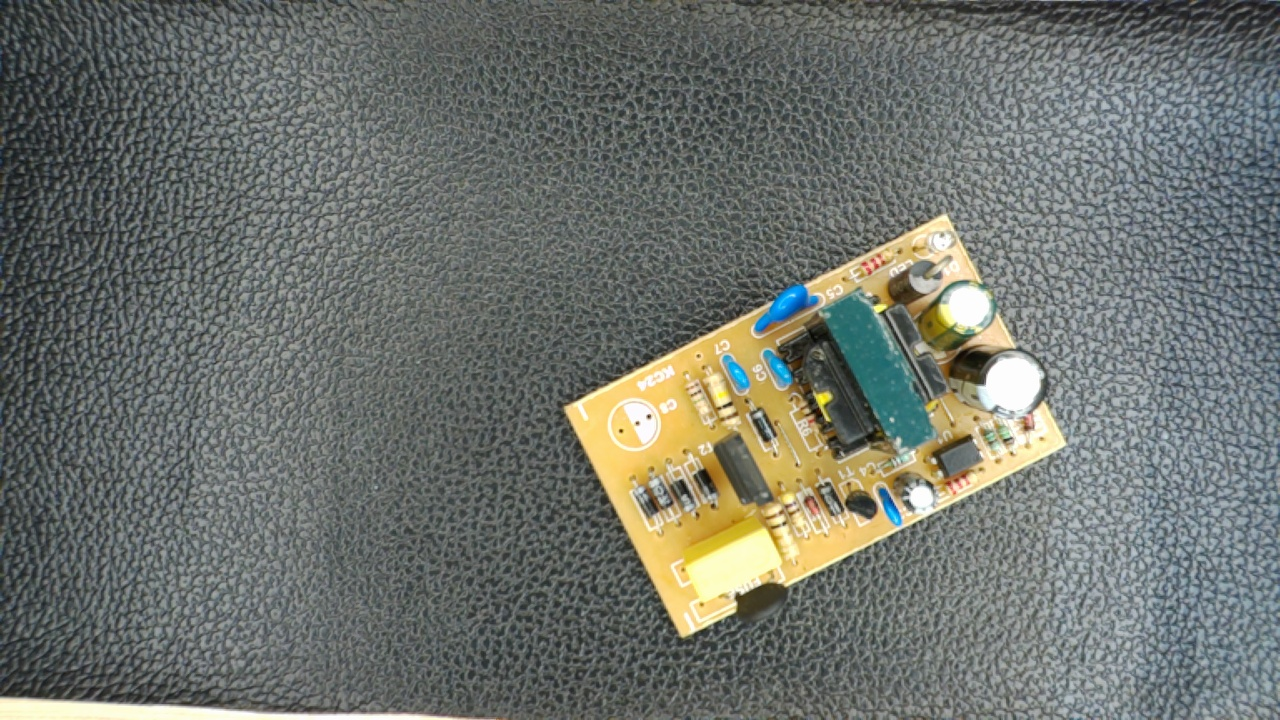fuse: (713, 575, 797, 626)
mov: (747, 282, 830, 336)
optocoupler: (920, 434, 989, 479)
